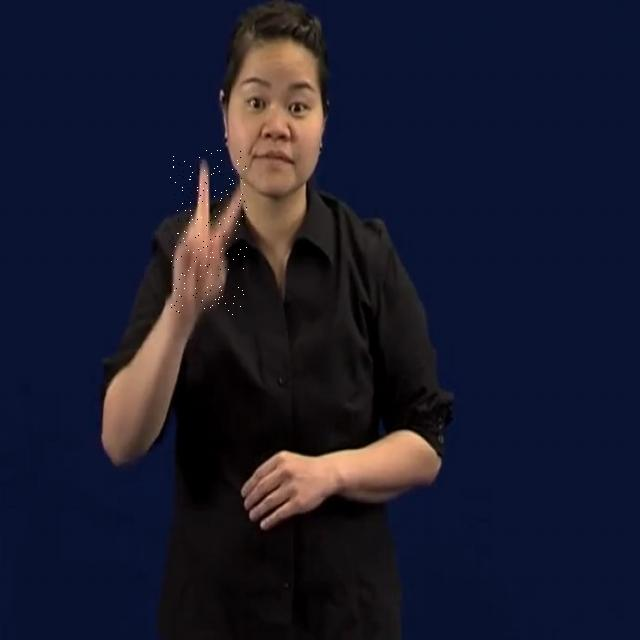vegetables: (170, 148, 247, 316)
